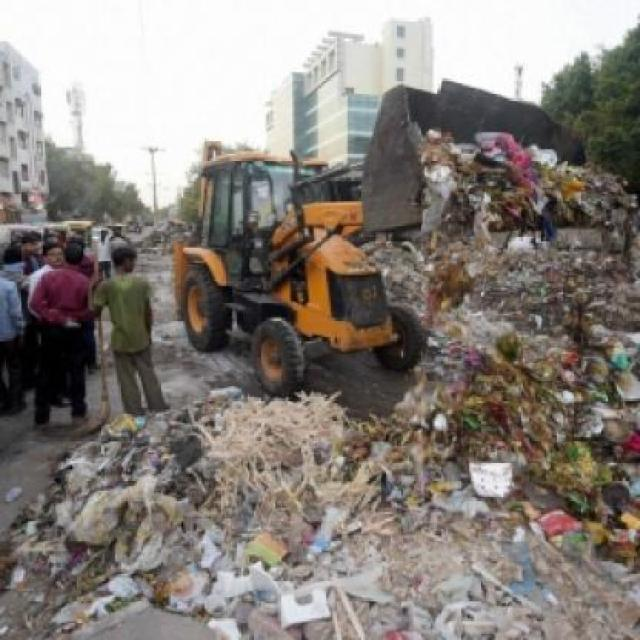garbage: (446, 134, 620, 501)
